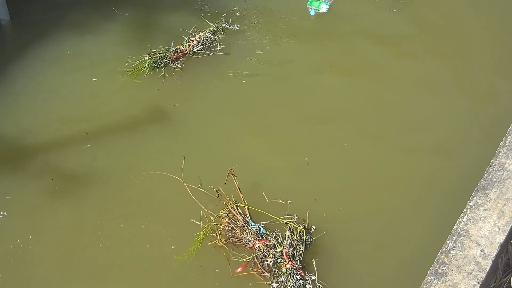plastic: (304, 0, 350, 19)
twig: (158, 157, 328, 288), (94, 10, 249, 85)
